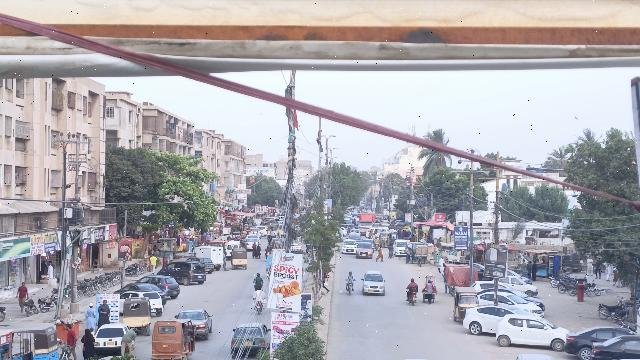Bike: (59, 341, 74, 360), (406, 290, 420, 307), (346, 279, 357, 297), (254, 300, 264, 316)
Car: (495, 313, 568, 350), (563, 325, 626, 359), (462, 304, 526, 336), (229, 321, 270, 357), (592, 332, 640, 360), (178, 308, 213, 341), (160, 260, 206, 285), (141, 273, 181, 298), (94, 324, 123, 355), (360, 269, 387, 297), (355, 242, 373, 260)
Cart: (420, 272, 439, 306)
Person: (120, 324, 138, 358), (63, 323, 78, 360), (80, 327, 97, 359), (15, 280, 29, 313), (96, 298, 110, 324), (84, 302, 96, 327), (375, 245, 385, 263), (407, 277, 419, 292), (253, 271, 264, 287), (346, 270, 355, 281)
Rickshaw: (1, 326, 59, 360), (150, 318, 196, 360), (121, 298, 153, 333), (452, 286, 480, 323), (230, 247, 249, 270)
Truck: (194, 245, 224, 268)
